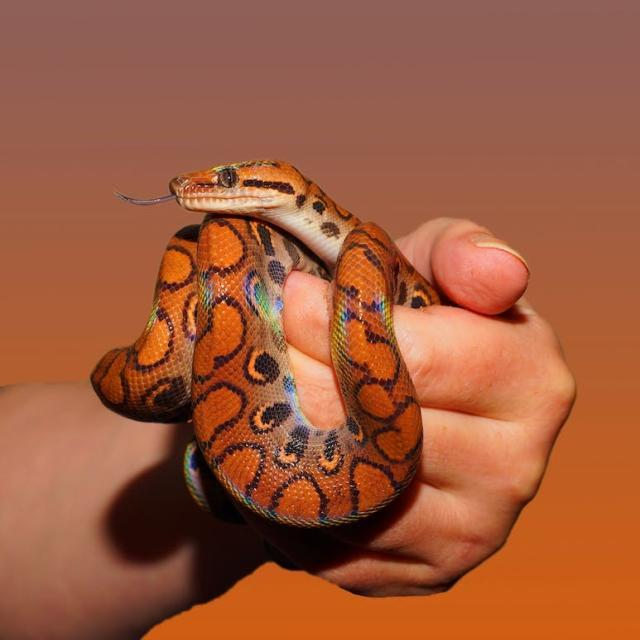Snake: (66, 125, 487, 600)
